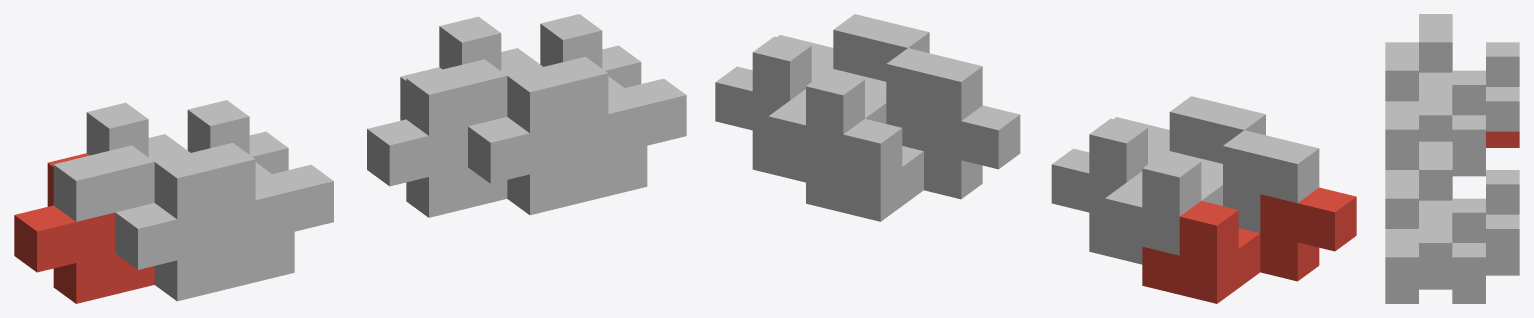
The model's file is tiling.obj.
3 views of the same model, side by side, from view 1: azimuth 30°, elevation 25°; view 2: azimuth 150°, elevation 25°; view 3: azimuth 270°, elevation 25° (orthographic). The views are drawn at different scales.
Parts seen in each view (by area): view 1: copy_1_domain_4, copy_1_domain_8, copy_1_domain_2, copy_1_domain_6, copy_1_domain_3, copy_1_domain_7, copy_1_domain_1, copy_1_domain_5; view 2: copy_1_domain_1, copy_1_domain_5, copy_1_domain_3, copy_1_domain_7, copy_1_domain_8, copy_1_domain_4, copy_1_domain_6, copy_1_domain_2; view 3: copy_1_domain_8, copy_1_domain_4, copy_1_domain_7, copy_1_domain_3, copy_1_domain_6, copy_1_domain_2, copy_1_domain_1, copy_1_domain_5.
Boxes of the visible parts, x1,y1,x2,y2 form: copy_1_domain_4: (154,100,333,250); copy_1_domain_8: (507,14,686,164); copy_1_domain_2: (115,150,294,301); copy_1_domain_6: (468,64,647,215); copy_1_domain_3: (53,102,187,221); copy_1_domain_7: (406,16,539,135); copy_1_domain_1: (14,153,154,303); copy_1_domain_5: (367,67,507,217); copy_1_domain_1: (1142,187,1356,303); copy_1_domain_5: (806,105,1020,221); copy_1_domain_3: (1105,130,1319,255); copy_1_domain_7: (768,48,982,173); copy_1_domain_8: (715,14,929,134); copy_1_domain_4: (1051,96,1265,216); copy_1_domain_6: (752,89,805,182); copy_1_domain_2: (1089,171,1142,264); copy_1_domain_8: (1385,170,1485,287); copy_1_domain_4: (1385,42,1485,159); copy_1_domain_7: (1419,141,1519,259); copy_1_domain_3: (1419,14,1519,131); copy_1_domain_6: (1385,273,1485,303); copy_1_domain_2: (1385,160,1485,176); copy_1_domain_1: (1486,131,1519,147); copy_1_domain_5: (1486,259,1519,275).
Bounding box in the file's own units: 16 × 3 × 4.
